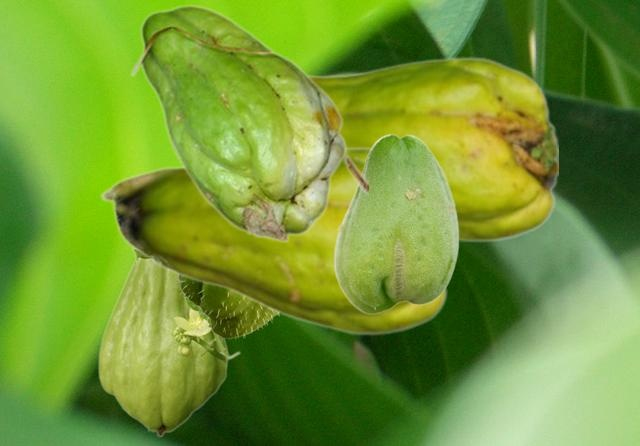sayote: (99, 146, 449, 335), (129, 4, 367, 242), (310, 56, 557, 242), (97, 248, 240, 436), (333, 133, 458, 313), (175, 276, 279, 340)
